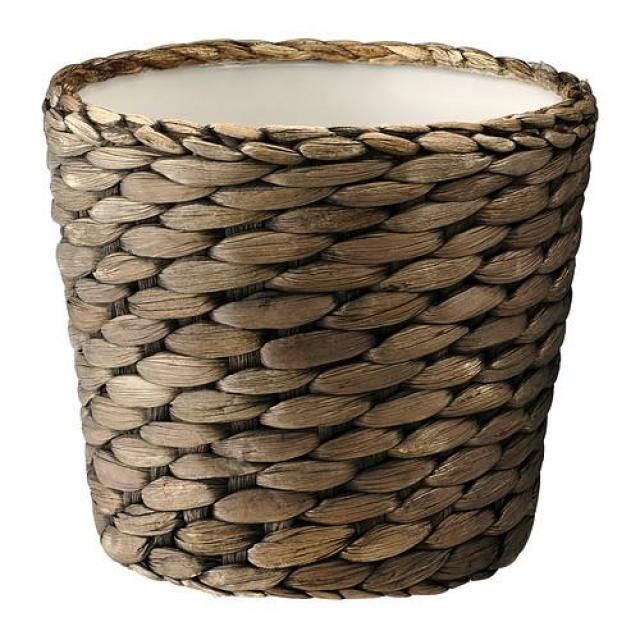plant pot: (41, 37, 599, 603)
